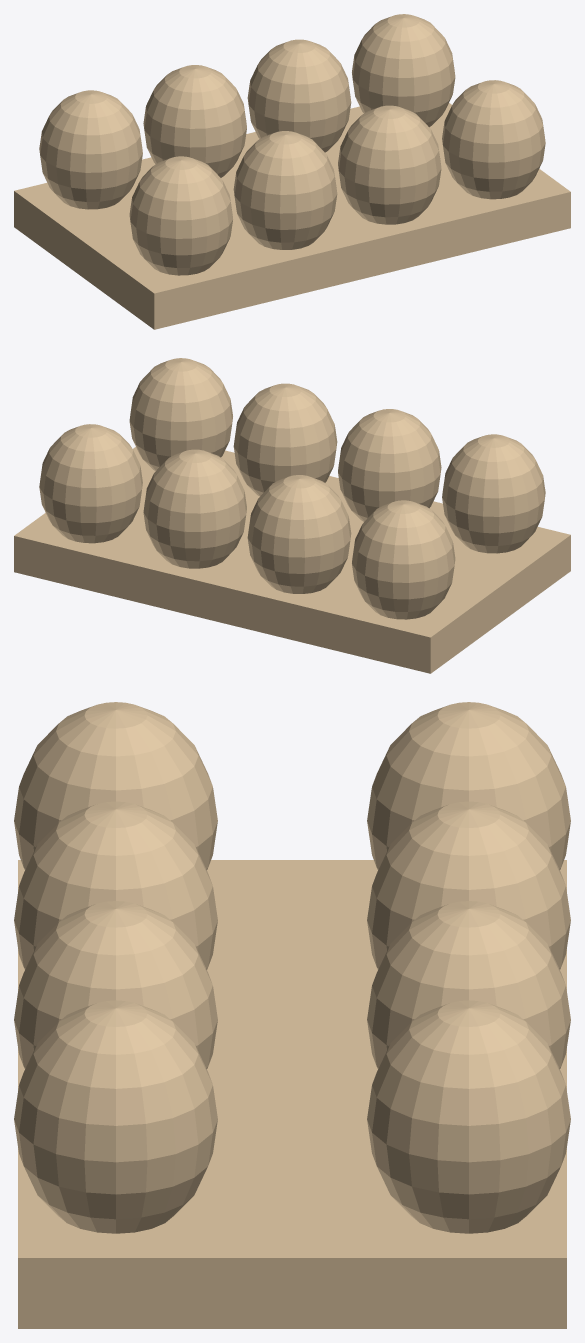
The model's file is g_egg_tray.glb.
3 renders of one model, top to bottom at view 1: azimuth 30°, elevation 25°; view 2: azimuth 150°, elevation 25°; view 3: azimuth 270°, elevation 25°, orthographic. The views are drawn at different scales.
Parts seen in each view (by area): view 1: g_egg_tray; view 2: g_egg_tray; view 3: g_egg_tray.
Part boxes in pixels (x1=…): g_egg_tray: x1=14, y1=14, x2=570, y2=329; g_egg_tray: x1=14, y1=358, x2=570, y2=673; g_egg_tray: x1=14, y1=702, x2=570, y2=1328.
Size of the model in its own units: 0.24 by 0.0762 by 0.142.
